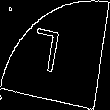L_S: (37, 26, 73, 84)
